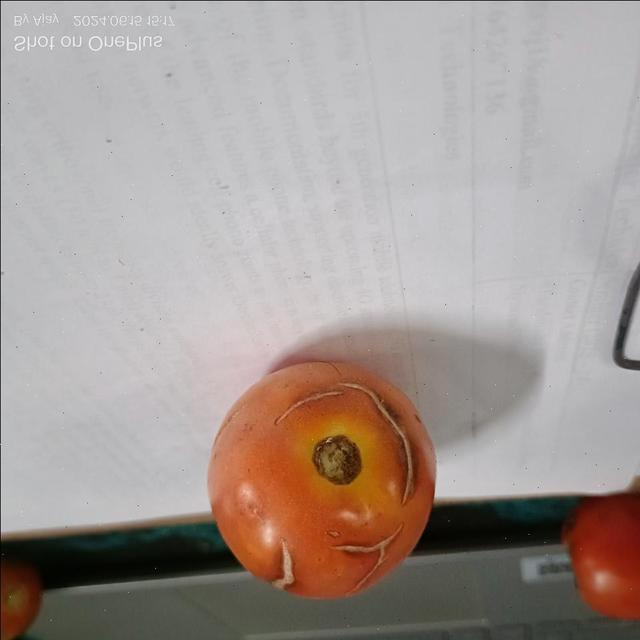Cracking Fruit: (178, 259, 283, 397)
